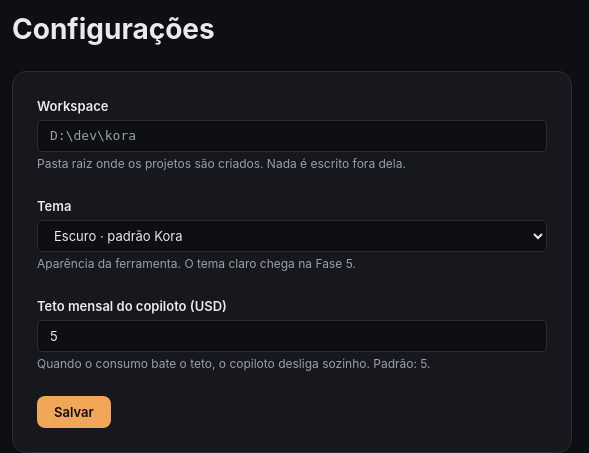
it: PaginaConfig › erro genérico do servidor aparece como alerta geral
(page scrolled)
Expected: the field labelled "Workspace" is shown, x1=37 y1=120 x2=547 y2=152
Click the button "Salvar".
click(74, 412)  # box x1=37 y1=396 x2=111 y2=428
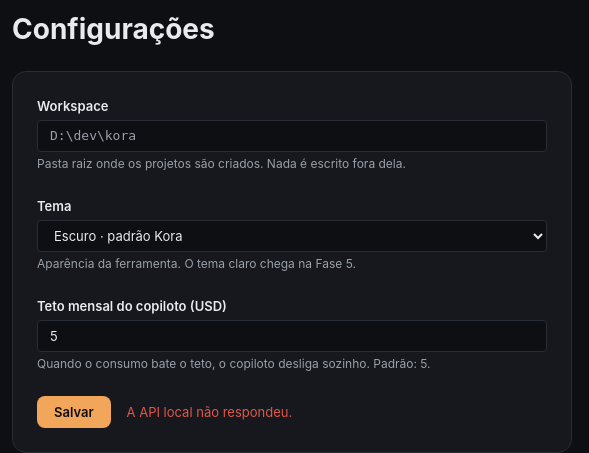
Now the message reads "A API local não respondeu.", box x1=127 y1=404 x2=292 y2=420
